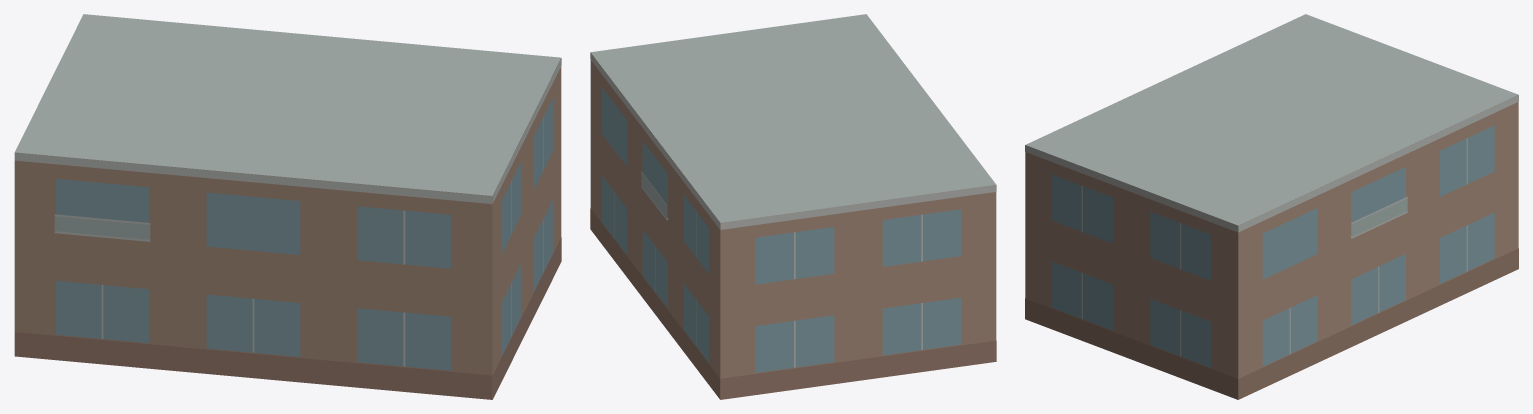
File: survey-upis-32997846.glb
The picture shows the model from 3 angles, left to right: view 1: azimuth 30°, elevation 25°; view 2: azimuth 150°, elevation 25°; view 3: azimuth 270°, elevation 25°; orthographic projection. The views are drawn at different scales.
Visible parts, largest first — view 1: survey-upis-32997846.tmp; view 2: survey-upis-32997846.tmp; view 3: survey-upis-32997846.tmp.
Part boxes in pixels (x1=…): survey-upis-32997846.tmp: x1=14, y1=14, x2=561, y2=399; survey-upis-32997846.tmp: x1=590, y1=14, x2=996, y2=399; survey-upis-32997846.tmp: x1=1025, y1=14, x2=1518, y2=399.
Bounding box in the file's own units: 15.89 × 6.1 × 15.66.
